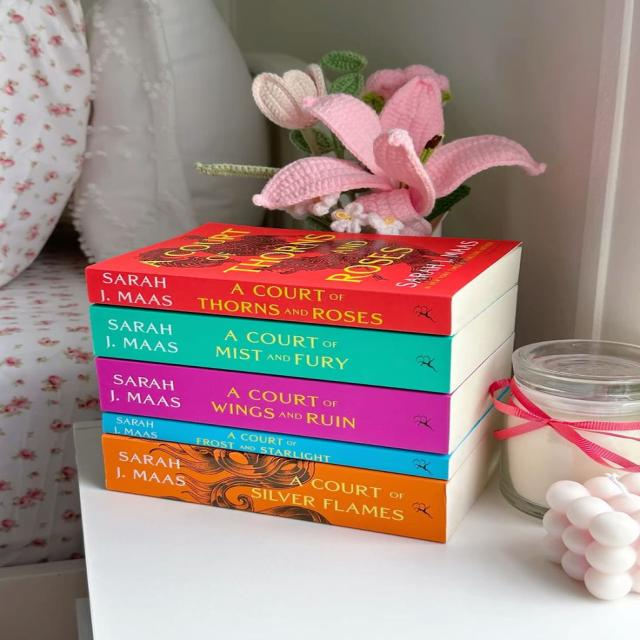book: (103, 435, 446, 541), (97, 358, 454, 453), (91, 305, 457, 393), (88, 267, 453, 334), (103, 413, 450, 479)
candle: (507, 362, 633, 473), (547, 481, 640, 590)
